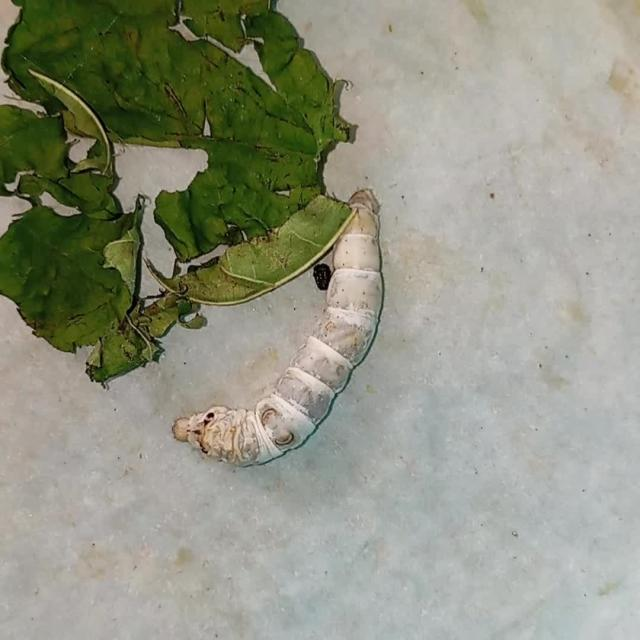Grasserie: (161, 188, 413, 493)
